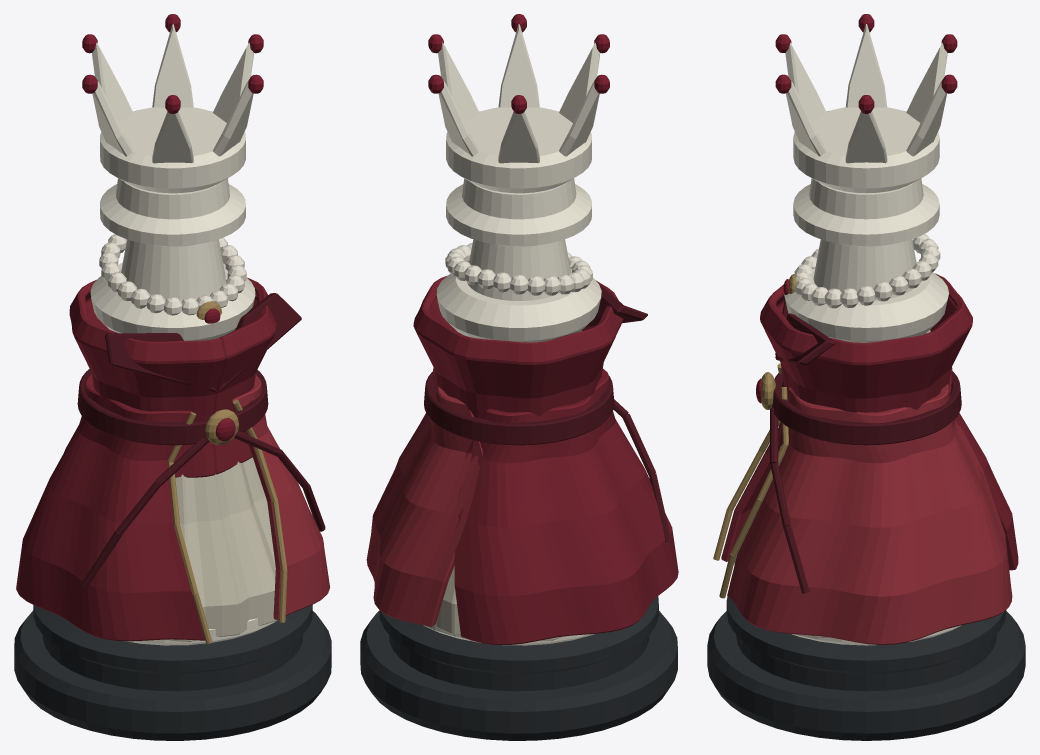
The model's file is CHR_scarlet.glb.
3 views of the same model, side by side, from view 1: azimuth 30°, elevation 25°; view 2: azimuth 150°, elevation 25°; view 3: azimuth 270°, elevation 25° (orthographic).
Parts seen in each view (by area): view 1: CHR_scarlet__red, CHR_scarlet__ivory, CHR_scarlet__black, CHR_scarlet__edge, CHR_scarlet__redshadow, CHR_scarlet__redlight, CHR_scarlet__pearl, CHR_scarlet__brass, CHR_scarlet__ruby; view 2: CHR_scarlet__red, CHR_scarlet__ivory, CHR_scarlet__black, CHR_scarlet__redlight, CHR_scarlet__redshadow, CHR_scarlet__pearl, CHR_scarlet__ruby, CHR_scarlet__edge; view 3: CHR_scarlet__redlight, CHR_scarlet__ivory, CHR_scarlet__black, CHR_scarlet__red, CHR_scarlet__redshadow, CHR_scarlet__pearl, CHR_scarlet__brass, CHR_scarlet__ruby.
Boxes of the visible parts, left/top/right/bottom form: CHR_scarlet__red: left=16, top=277, right=276, bottom=641; CHR_scarlet__ivory: left=90, top=24, right=277, bottom=645; CHR_scarlet__black: left=14, top=605, right=331, bottom=740; CHR_scarlet__edge: left=168, top=457, right=276, bottom=641; CHR_scarlet__redshadow: left=77, top=293, right=325, bottom=588; CHR_scarlet__redlight: left=231, top=374, right=330, bottom=620; CHR_scarlet__pearl: left=99, top=234, right=246, bottom=315; CHR_scarlet__brass: left=167, top=301, right=287, bottom=643; CHR_scarlet__ruby: left=82, top=14, right=263, bottom=441; CHR_scarlet__red: left=413, top=276, right=678, bottom=644; CHR_scarlet__ivory: left=423, top=24, right=601, bottom=645; CHR_scarlet__black: left=360, top=596, right=677, bottom=740; CHR_scarlet__redlight: left=366, top=367, right=483, bottom=626; CHR_scarlet__redshadow: left=424, top=281, right=671, bottom=542; CHR_scarlet__pearl: left=445, top=243, right=592, bottom=295; CHR_scarlet__ruby: left=428, top=14, right=609, bottom=113; CHR_scarlet__edge: left=436, top=331, right=581, bottom=640; CHR_scarlet__redlight: left=727, top=384, right=1012, bottom=644; CHR_scarlet__ivory: left=784, top=24, right=961, bottom=645; CHR_scarlet__black: left=707, top=596, right=1025, bottom=740; CHR_scarlet__red: left=721, top=273, right=1018, bottom=570; CHR_scarlet__redshadow: left=770, top=299, right=961, bottom=593; CHR_scarlet__pearl: left=794, top=234, right=940, bottom=308; CHR_scarlet__brass: left=713, top=274, right=796, bottom=598; CHR_scarlet__ruby: left=756, top=14, right=957, bottom=403.
Size of the model in its own units: 0.9504 by 2.05 by 0.9504.
